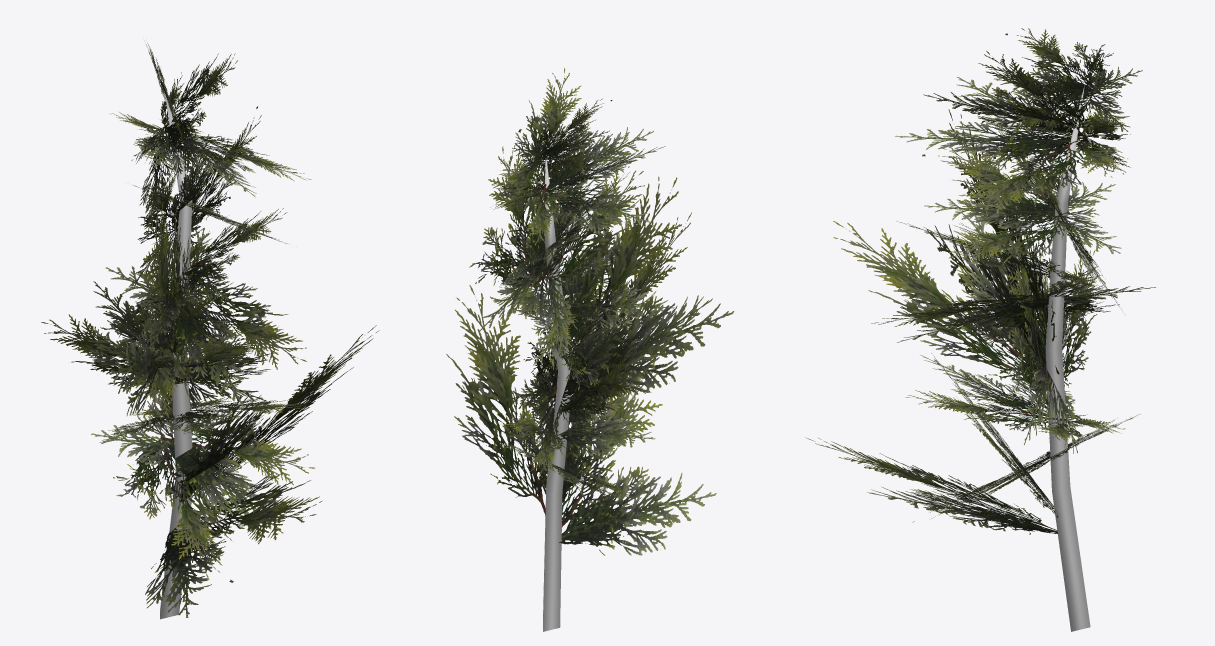
File: tannenzweig 0.fbx
The picture shows the model from 3 angles, left to right: view 1: azimuth 30°, elevation 25°; view 2: azimuth 150°, elevation 25°; view 3: azimuth 270°, elevation 25°; orthographic projection. The views are drawn at different scales.
Visible parts, largest first — view 1: Circle_001; view 2: Circle_001; view 3: Circle_001.
Boxes of the visible parts, left/top/right/bottom form: Circle_001: left=41, top=43, right=379, bottom=619; Circle_001: left=446, top=68, right=734, bottom=631; Circle_001: left=805, top=28, right=1155, bottom=631.
Bounding box in the file's own units: 3.5 × 6.08 × 3.62.
